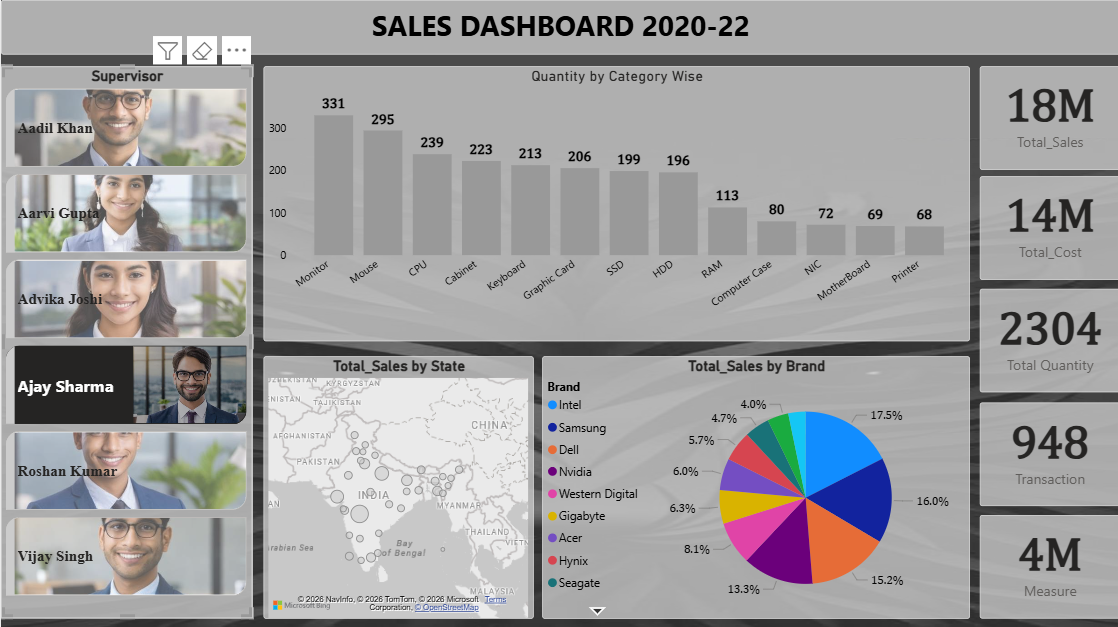

This screenshot's page, from the dashboard's own definition file:
{"tool":"powerbi","page":{"name":"Page 1","canvas":[1280,720],"ordinal":0},"visuals":[{"type":"textbox","box":[0,0,1280,62.7],"z":0},{"type":"card","fields":{"Values":["Sum(Sales_Data.Total_Sales)"]},"box":[1118.4,75.5,161.9,118],"z":1000},{"type":"card","fields":{"Values":["Sum(Sales_Data.Total_Cost)"]},"box":[1118.4,201.7,161.9,118],"z":2000},{"type":"card","fields":{"Values":["Sum(Sales_Data.Quantity)"]},"box":[1118.4,330.7,161.9,118],"z":3000},{"type":"card","fields":{"Values":["CountNonNull(Sales_Data.Order_Number)"]},"box":[1118.4,459.7,161.9,118],"z":4000},{"type":"card","fields":{"Values":["Sales_Data.Measure"]},"box":[1118.4,588.7,161.9,118],"z":5000},{"type":"clusteredColumnChart","title":"Quantity by Category Wise","fields":{"Category":["Sales_Data.Category"],"Y":["Sum(Sales_Data.Quantity)"]},"box":[300,75.7,807.1,314.3],"z":6000},{"type":"pieChart","title":"Total_Sales by Brand","fields":{"Y":["Sum(Sales_Data.Total_Sales)"],"Category":["Sales_Data.Brand"]},"box":[618.6,407.1,488.6,300],"z":7000},{"type":"map","title":"Total_Sales by State","fields":{"Size":["Sum(Sales_Data.Total_Sales)"],"Category":["State_list.State"]},"box":[300,407.1,308.6,300],"z":8000},{"type":"advancedSlicerVisual","fields":{"Values":["Supervisor.Supervisor"]},"box":[0,75.7,287.1,631.4],"z":9000}]}

Visuals, with their boxes in screenshot pixels (x1, y1, x2, y2), scaled from the page's 1280x720 canvas onto the 1118x627 screenshot:
textbox: select_region(0, 0, 1117, 55)
card - Sum(Sales_Data.Total_Sales): select_region(977, 66, 1117, 169)
card - Sum(Sales_Data.Total_Cost): select_region(977, 176, 1117, 278)
card - Sum(Sales_Data.Quantity): select_region(977, 288, 1117, 391)
card - CountNonNull(Sales_Data.Order_Number): select_region(977, 400, 1117, 503)
card - Sales_Data.Measure: select_region(977, 513, 1117, 615)
"Quantity by Category Wise" clusteredColumnChart: select_region(262, 66, 967, 340)
"Total_Sales by Brand" pieChart: select_region(540, 355, 967, 616)
"Total_Sales by State" map: select_region(262, 355, 532, 616)
advancedSlicerVisual - Supervisor.Supervisor: select_region(0, 66, 251, 616)
